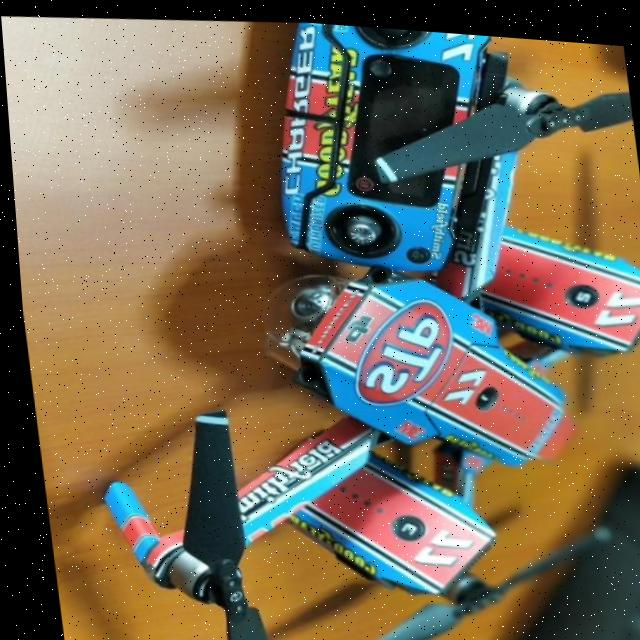drones: (134, 8, 640, 640)
